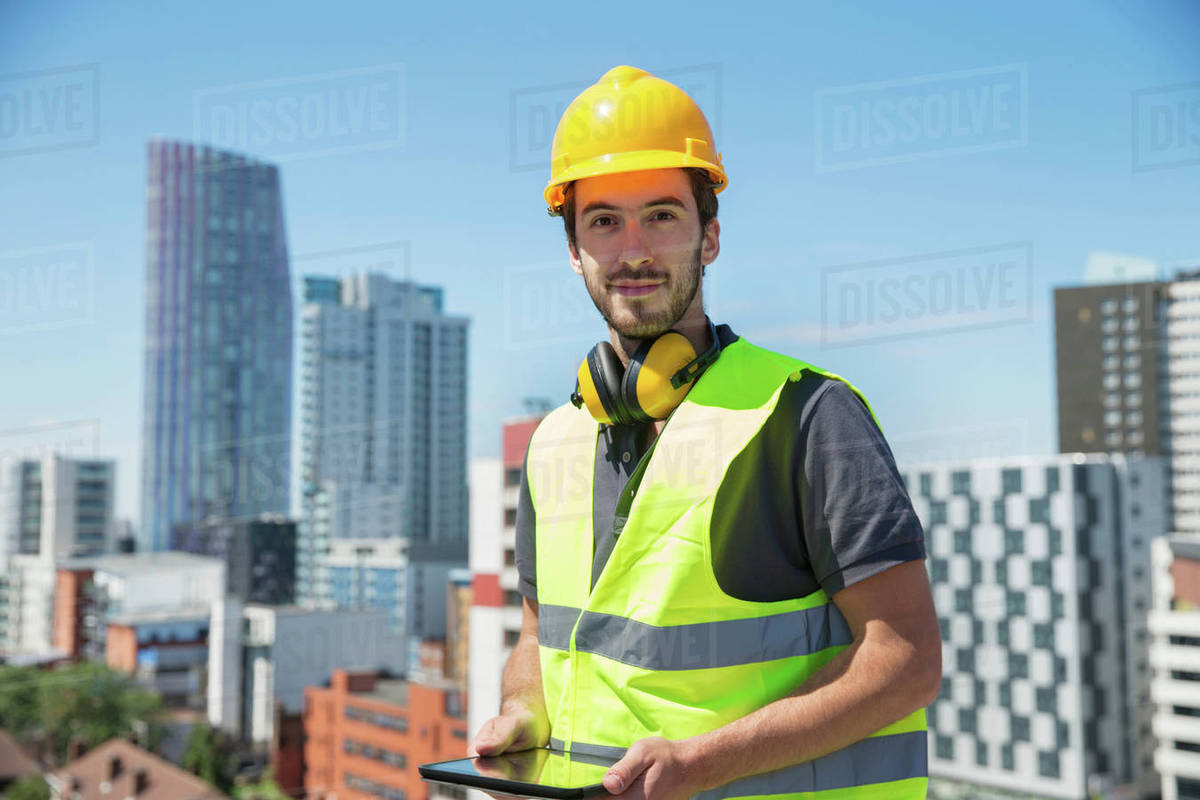Person_wearing_helmet: (536, 50, 768, 248)
